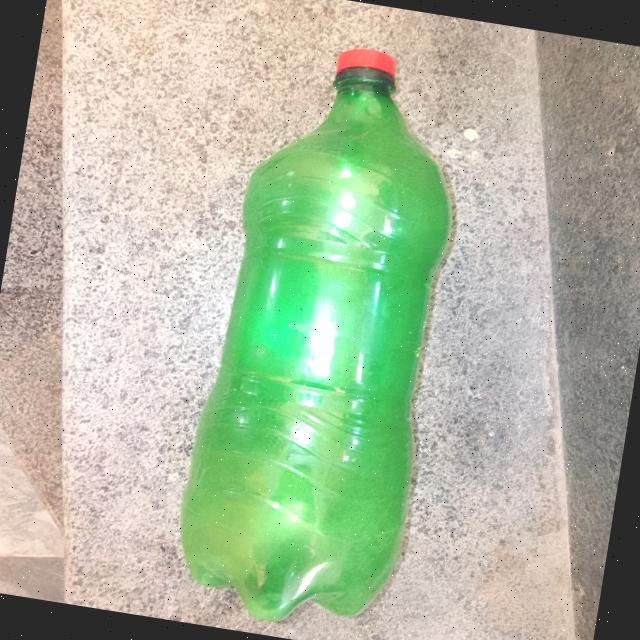bottle: (161, 24, 504, 640)
cap: (330, 42, 404, 92)
